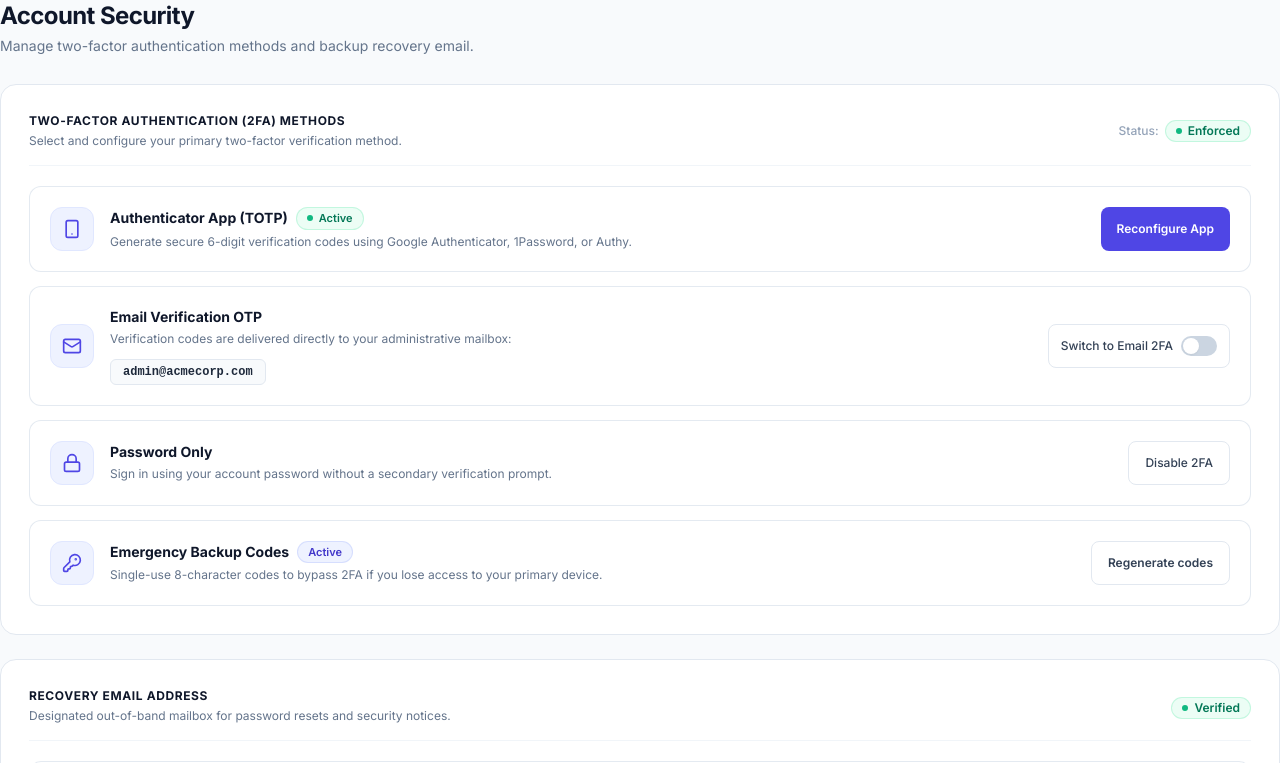
Test: SecuritySettingsView Component › allows switching 2FA mode to Email OTP
Expected: the text "Switch to Email 2FA" is shown, 1061,338 -> 1173,354
Click the switch "Switch to Email 2FA". click: [1139, 346]
box: 1048,324 -> 1230,368
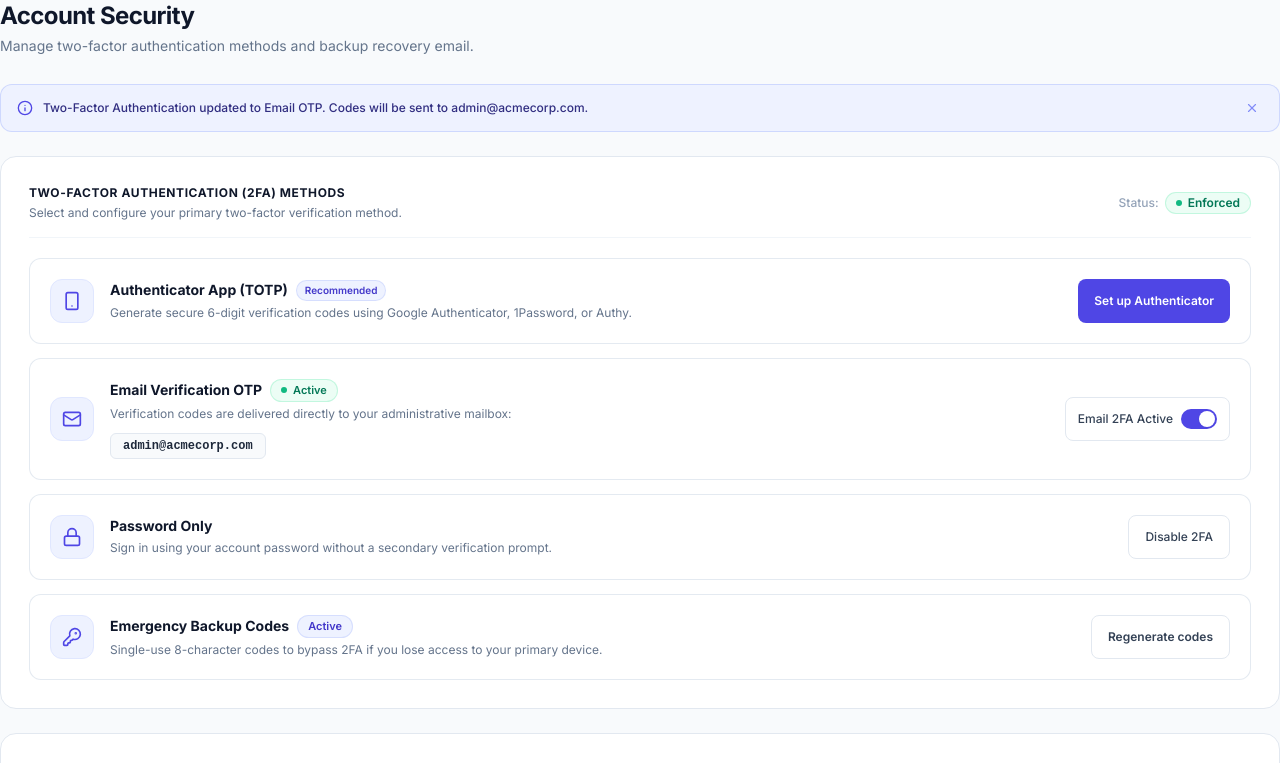
Expected: the text "Two-Factor Authentication updated to Email OTP" is shown, 43,100 -> 588,115
